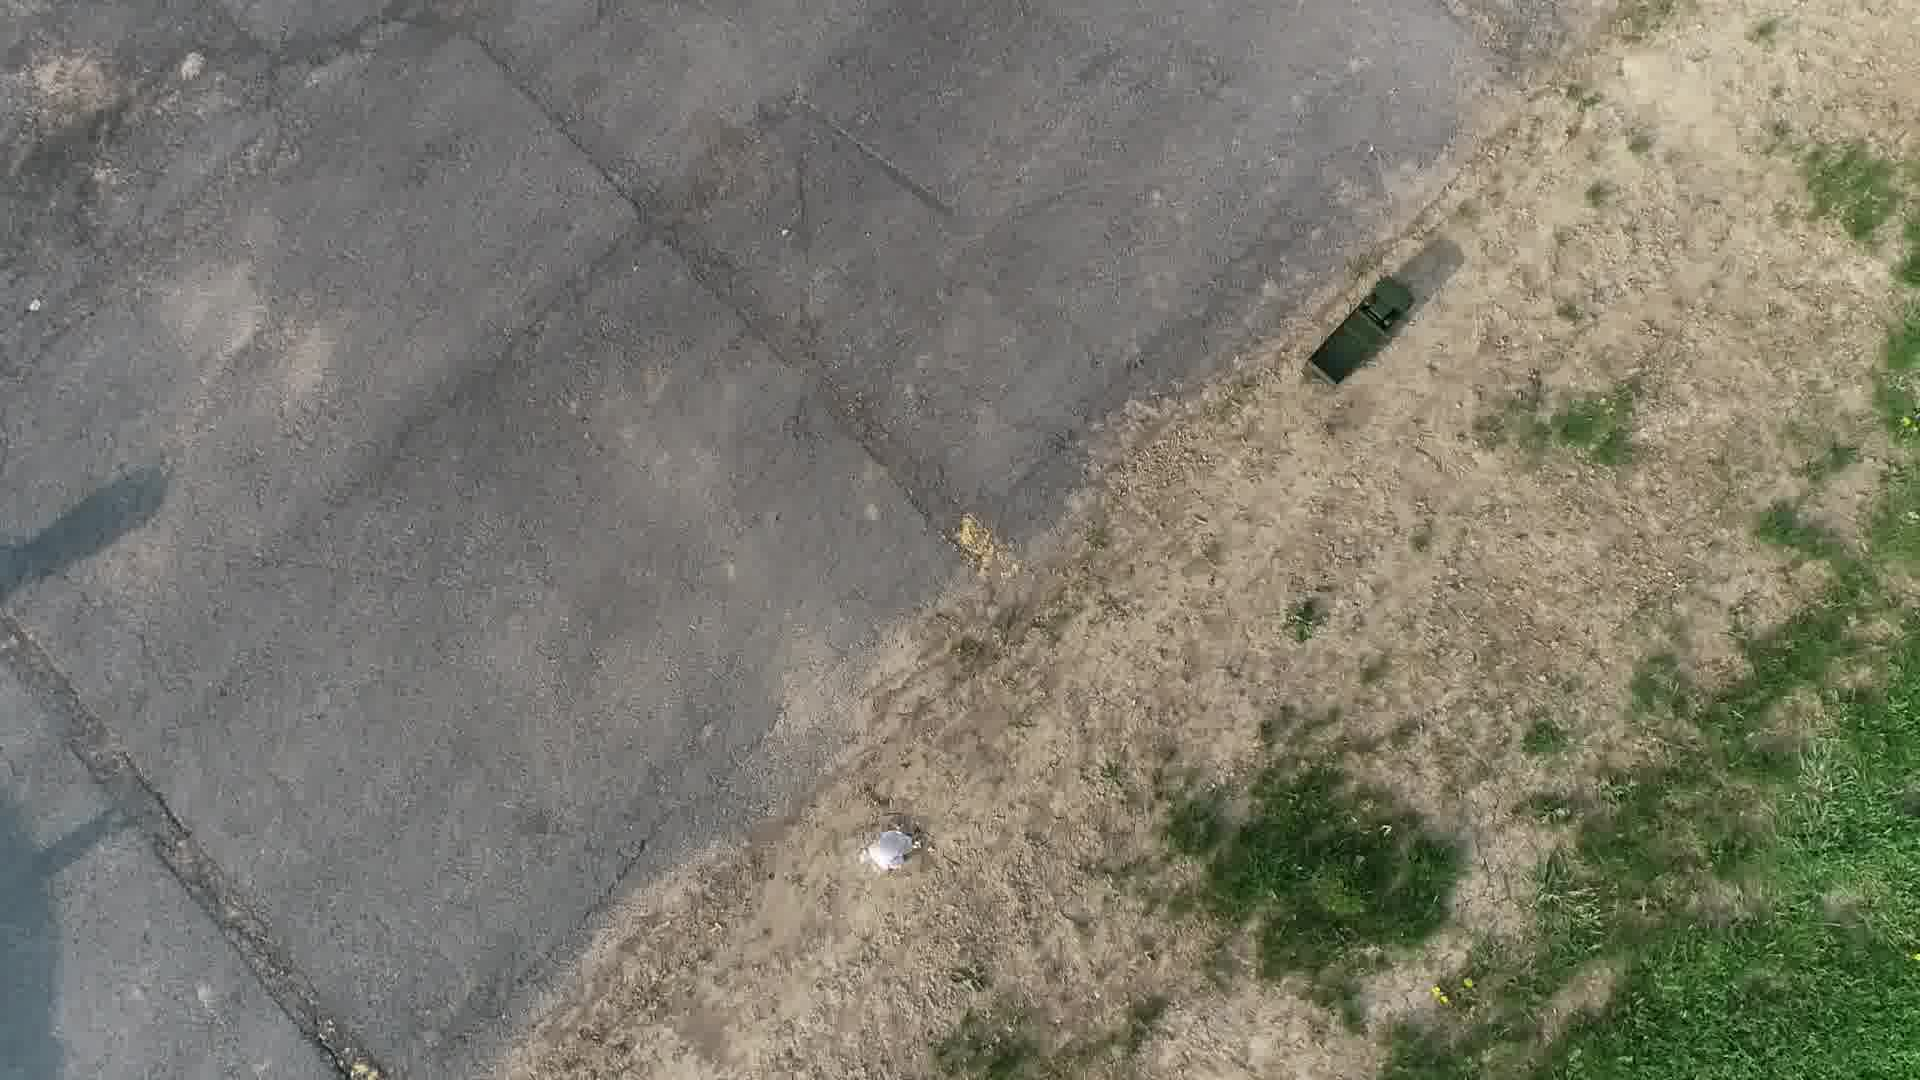transporter9: (1298, 272, 1418, 396)
